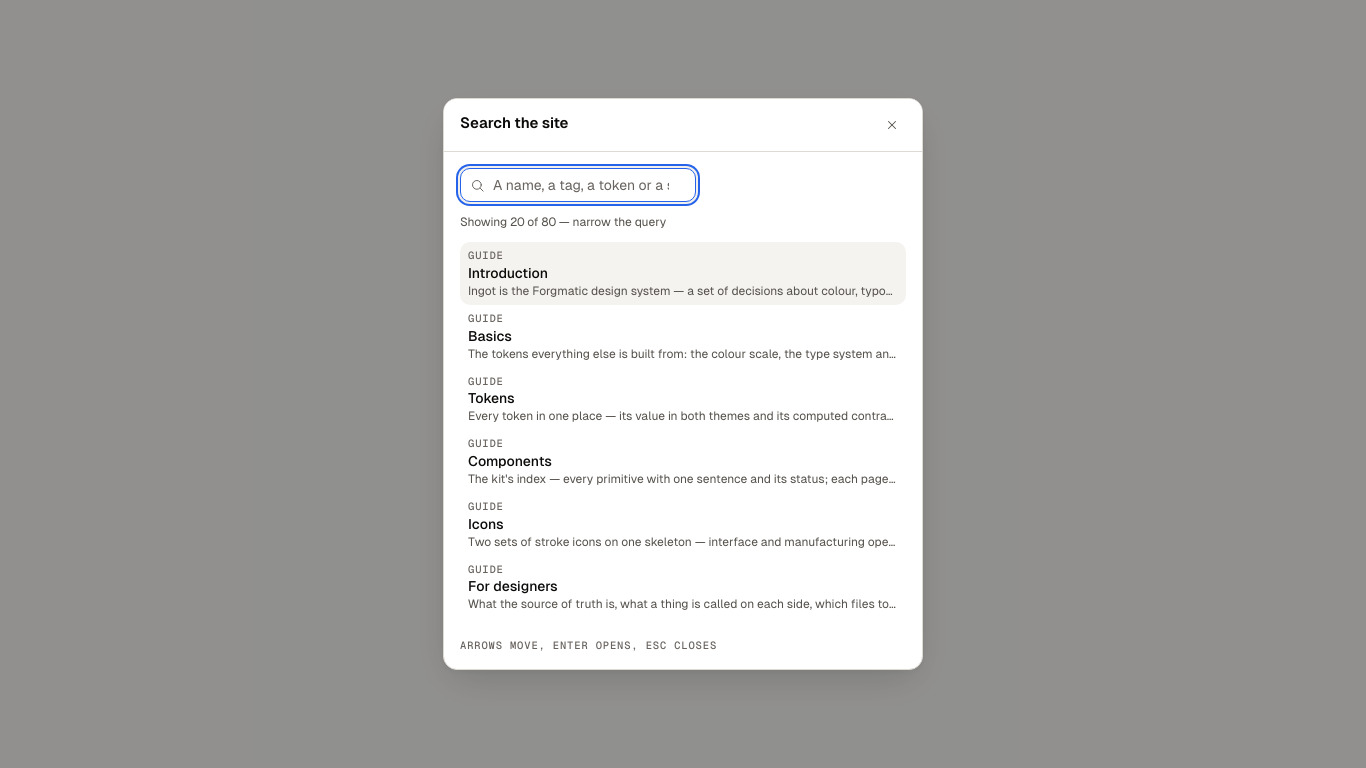
the dialog › tells the reader when nothing matched instead of showing an empty area
In the dropdown with test id "docs-search-input": (578, 185) [460,168,696,202], type "zzzzznotathing"
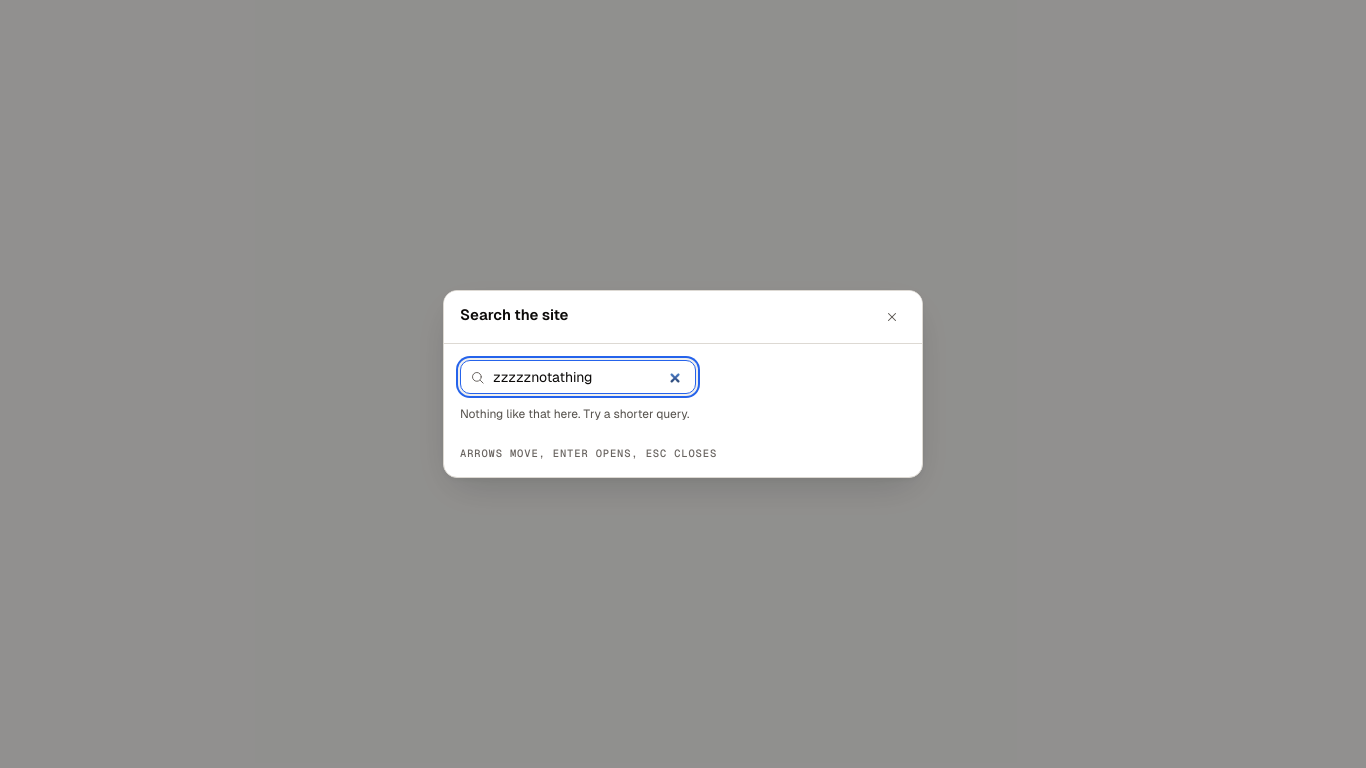
Expected: no options are shown
Expected: the text with test id "docs-search-status" shows "Nothing like that", [460,407,689,421]
